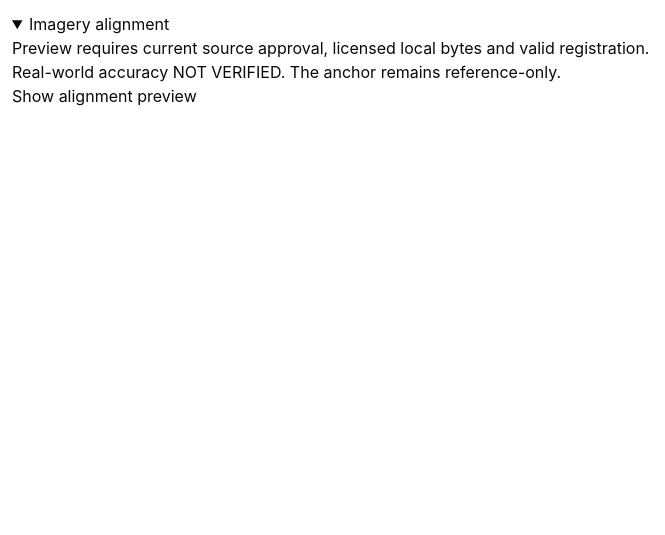
Test case: imagery canvas lifecycle › IMG-38/45 removes pixels and attribution after rights rejection; retry revalidates
This screenshot has width=665, height=535.
Later steps or results of the test are not shown.
Step 1. Click the button "Show alignment preview" → click(104, 96), box [12,84,197,108]
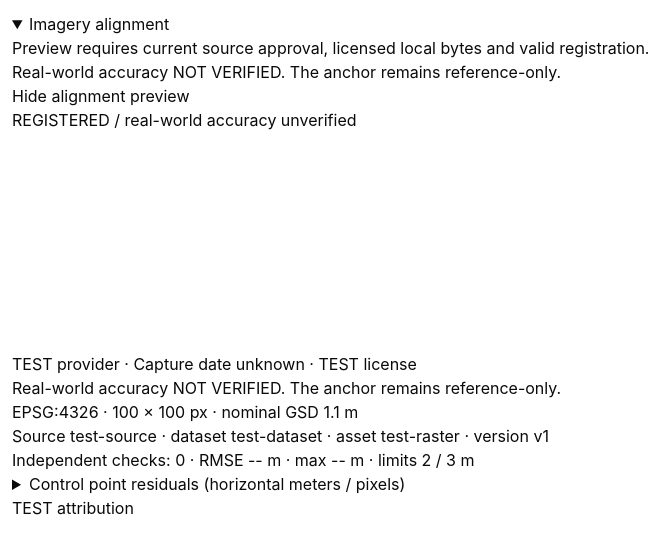
Check: the link "TEST attribution" is shown, box [12,498,134,518]
